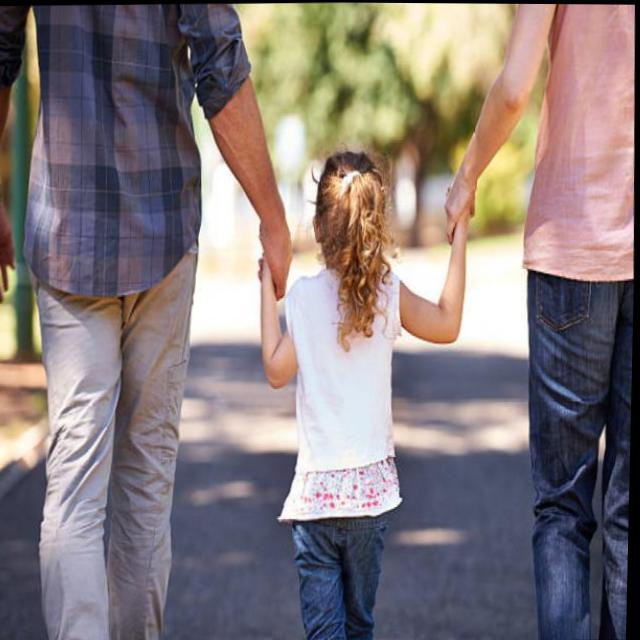no helmet: (298, 129, 399, 367)
